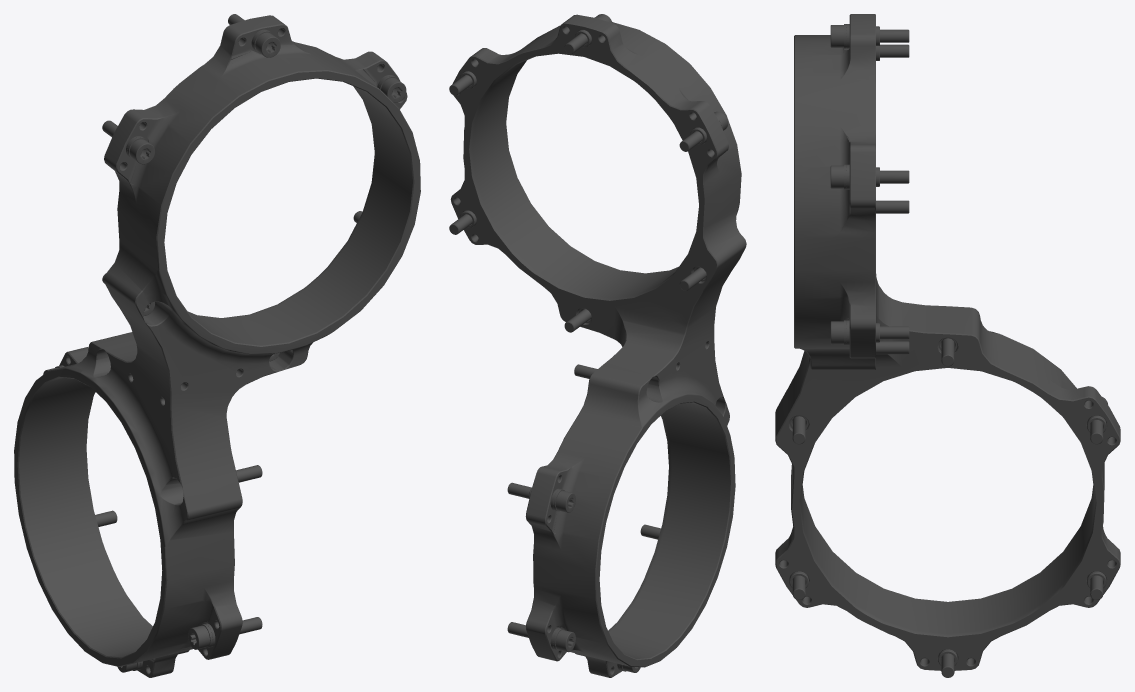
The model's file is link_torso_x.glb.
3 views of the same model, side by side, from view 1: azimuth 30°, elevation 25°; view 2: azimuth 150°, elevation 25°; view 3: azimuth 270°, elevation 25° (orthographic). The views are drawn at different scales.
Visible parts, largest first — view 1: link_torso_x; view 2: link_torso_x; view 3: link_torso_x.
Part boxes in pixels (box(x1,y1,x2,y2)): link_torso_x: box(14, 14, 420, 677); link_torso_x: box(449, 14, 746, 677); link_torso_x: box(775, 14, 1120, 677).
Size of the model in its own units: 0.1056 by 0.228 by 0.1056.
Materials: 1 (1 with a texture image).
